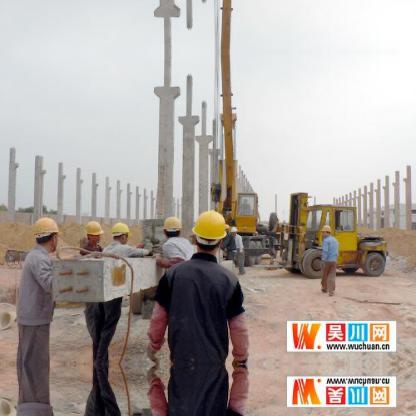Safety Helmet: (189, 209, 234, 258), (28, 214, 65, 255), (81, 214, 106, 249), (159, 213, 186, 244), (109, 218, 135, 248), (319, 222, 335, 243)
